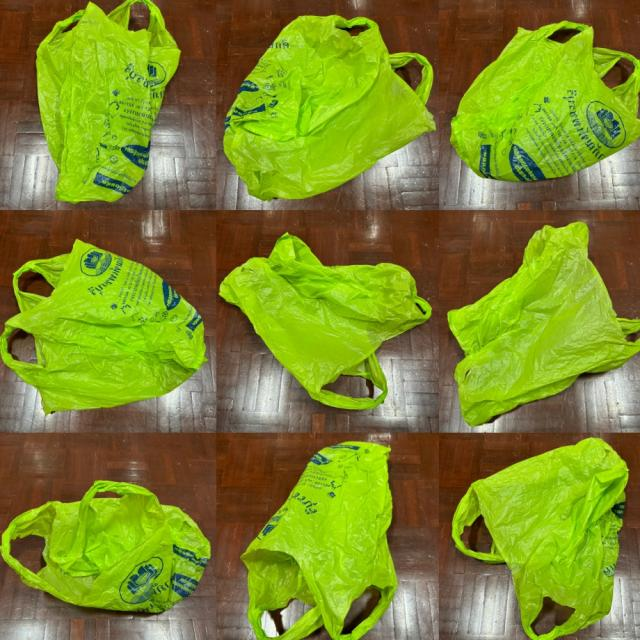plastik: (225, 15, 436, 200), (448, 222, 640, 425), (219, 233, 431, 409), (0, 239, 206, 413), (453, 437, 628, 640), (242, 441, 397, 640), (450, 21, 640, 181), (37, 0, 180, 202), (2, 481, 210, 612)
